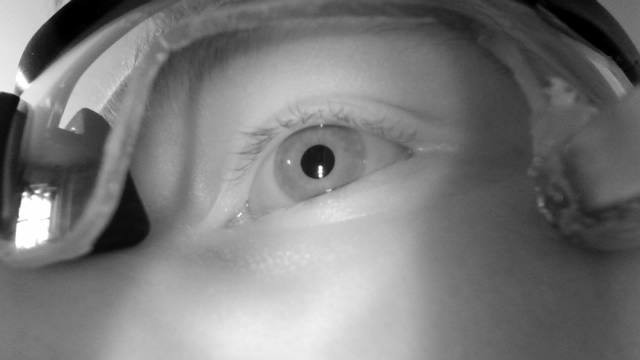pupil: (300, 144, 336, 179)
